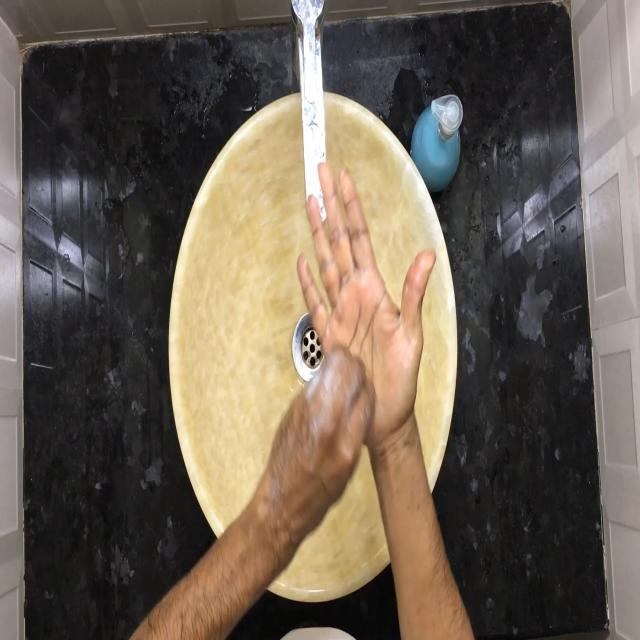step_6: (268, 150, 440, 496)
